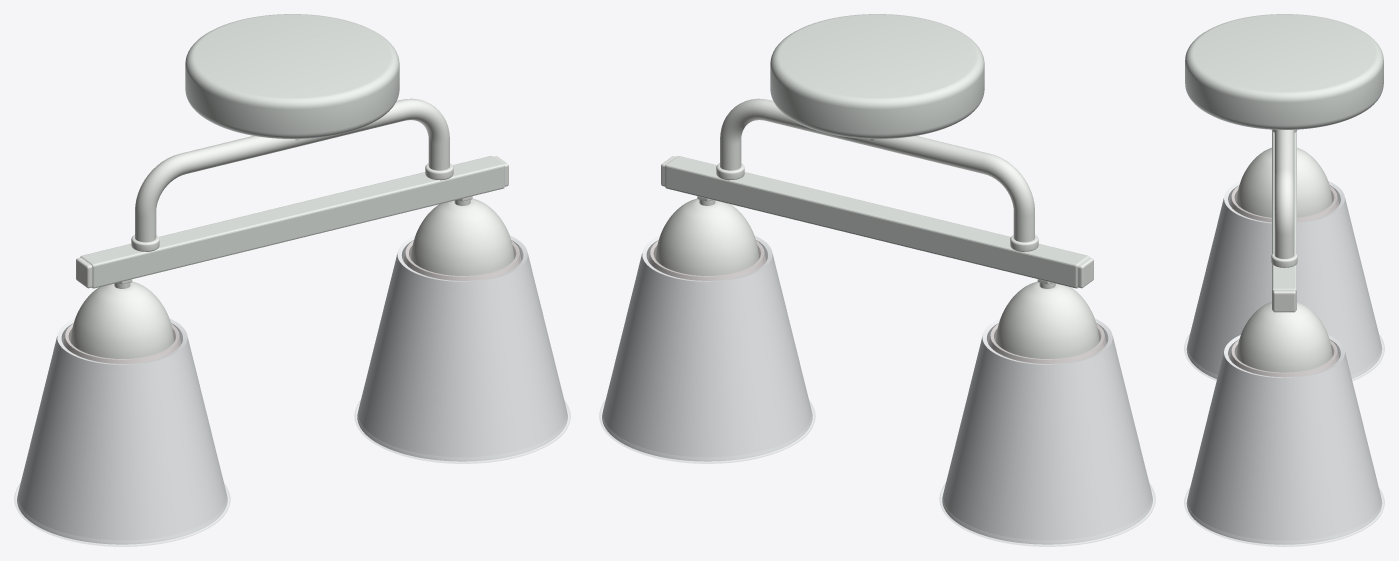
3 renders of one model, left to right at view 1: azimuth 30°, elevation 25°; view 2: azimuth 150°, elevation 25°; view 3: azimuth 270°, elevation 25°, orthographic. The views are drawn at different scales.
Parts seen in each view (by area): view 1: outer_glass, frame, chrome, glass_edge, inner_glass; view 2: outer_glass, frame, chrome, glass_edge, inner_glass; view 3: outer_glass, frame, chrome, glass_edge, inner_glass.
Part boxes in pixels (box(x1,y1,x2,y2)): outer_glass: box(17, 235, 567, 544); frame: box(80, 14, 504, 288); chrome: box(70, 98, 514, 358); glass_edge: box(14, 400, 570, 546); inner_glass: box(63, 240, 521, 363); outer_glass: box(602, 235, 1152, 544); frame: box(665, 14, 1089, 288); chrome: box(655, 98, 1099, 358); glass_edge: box(599, 400, 1155, 546); inner_glass: box(648, 240, 1106, 363); outer_glass: box(1186, 181, 1382, 544); frame: box(1185, 14, 1383, 310); chrome: box(1236, 129, 1332, 372); glass_edge: box(1184, 334, 1384, 546); inner_glass: box(1229, 185, 1339, 377).
Size of the model in its own units: 0.3412 by 0.2499 by 0.1212.
Materials: 6 (6 with a texture image).
